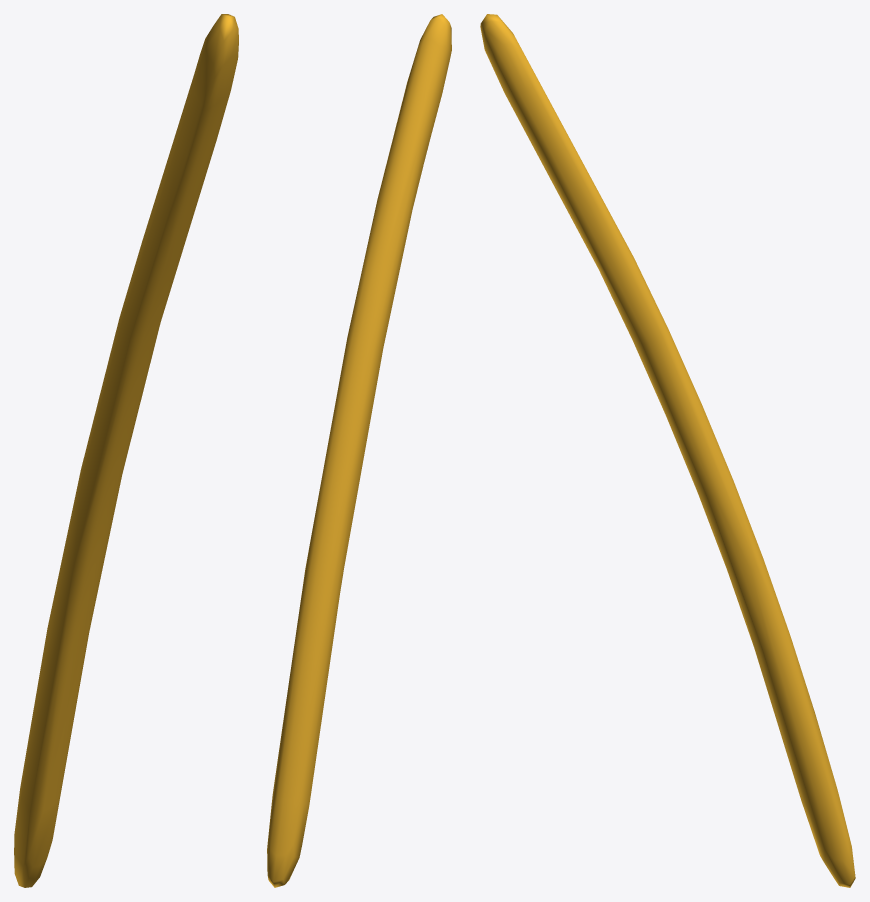
The model's file is nervoso-nucleus-of-accessory-nerve-r.glb.
3 renders of one model, left to right at view 1: azimuth 30°, elevation 25°; view 2: azimuth 150°, elevation 25°; view 3: azimuth 270°, elevation 25°, orthographic. The views are drawn at different scales.
Parts seen in each view (by area): view 1: Nucleus of accessory nerve.r; view 2: Nucleus of accessory nerve.r; view 3: Nucleus of accessory nerve.r.
Boxes of the visible parts, <box> form: Nucleus of accessory nerve.r: <box>14,14,238,887</box>; Nucleus of accessory nerve.r: <box>267,14,451,887</box>; Nucleus of accessory nerve.r: <box>480,14,855,887</box>.
Size of the model in its own units: 0.00116 by 0.0267 by 0.0104.
